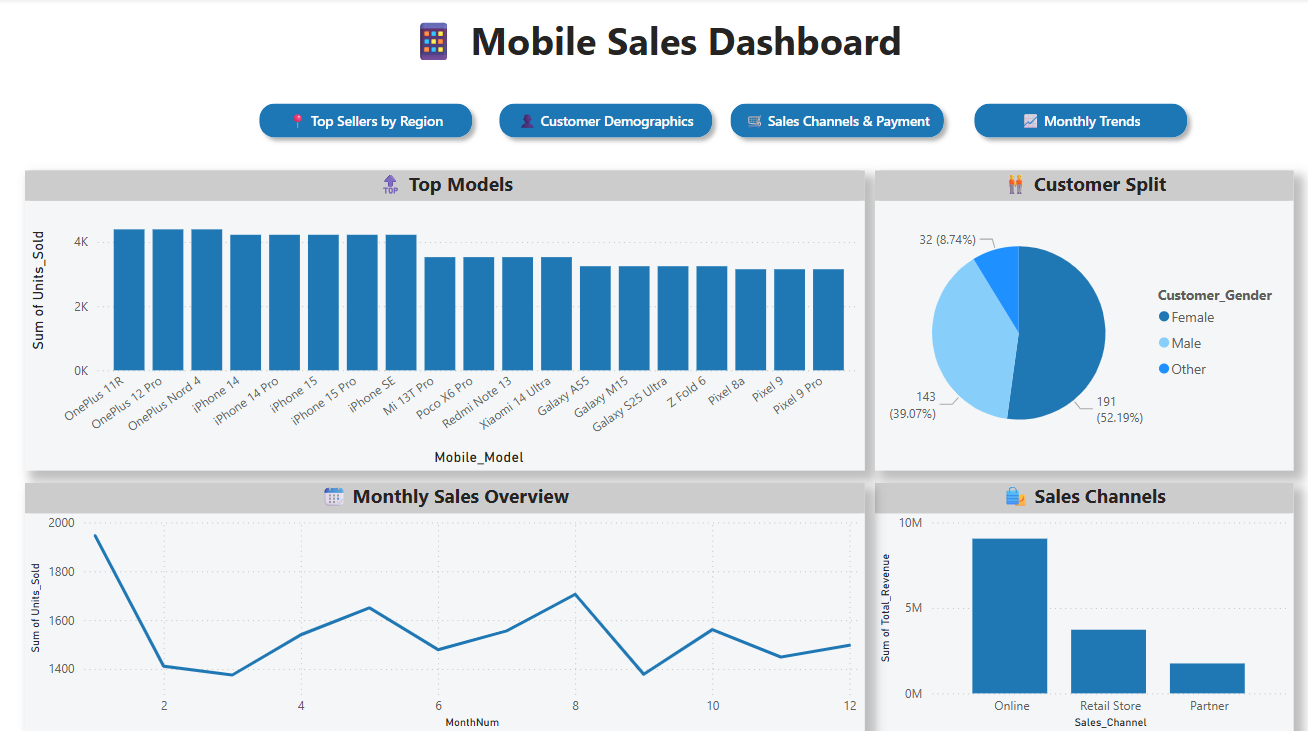

The dashboard page shown, as its layout file describes it:
{"tool":"powerbi","page":{"name":"🏠 Homepage","canvas":[1280,720],"ordinal":0},"visuals":[{"type":"textbox","box":[11,11,1269.3,70],"z":0},{"type":"shape","box":[244.6,94.2,226.2,51.4],"z":1000},{"type":"shape","box":[479.4,94.2,226.2,51.4],"z":2000},{"type":"shape","box":[705.6,94.2,227.4,51.4],"z":3000},{"type":"shape","box":[944,94.2,226.2,51.4],"z":4000},{"type":"columnChart","title":"🔝 Top Models","fields":{"Category":["Dim_Products.Mobile_Model"],"Y":["Sum(Fact_Sales.Units_Sold)"]},"box":[24.5,168.8,821.7,293.5],"z":5000},{"type":"pieChart","title":"🧑🤝🧑 Customer Split","fields":{"Category":["Fact_Sales.Customer_Gender"],"Y":["CountNonNull(Fact_Sales.Transaction_ID)"]},"box":[856,168.8,409.6,293.5],"z":6000},{"type":"columnChart","title":"🛍️ Sales Channels","fields":{"Category":["Fact_Sales.Sales_Channel"],"Y":["Sum(Fact_Sales.Total_Revenue)"]},"box":[856,474.5,409.6,245.8],"z":7000},{"type":"lineChart","title":"📆 Monthly Sales Overview","fields":{"Y":["Sum(Fact_Sales.Units_Sold)"],"Category":["DateTable.MonthNum"]},"box":[24.5,474.5,821.7,245.8],"z":8001}]}

Visuals, with their boxes in screenshot pixels (x1, y1, x2, y2), scaled from the page's 1280x720 canvas onto the 1308x731 screenshot:
textbox: (11,11,1307,82)
shape: (250,96,481,148)
shape: (490,96,721,148)
shape: (721,96,953,148)
shape: (965,96,1196,148)
"🔝 Top Models" columnChart: (25,171,865,469)
"🧑🤝🧑 Customer Split" pieChart: (875,171,1293,469)
"🛍️ Sales Channels" columnChart: (875,482,1293,730)
"📆 Monthly Sales Overview" lineChart: (25,482,865,730)
